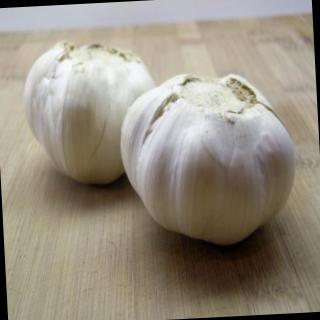Bawang Putih: (118, 68, 302, 248), (21, 37, 164, 193)
